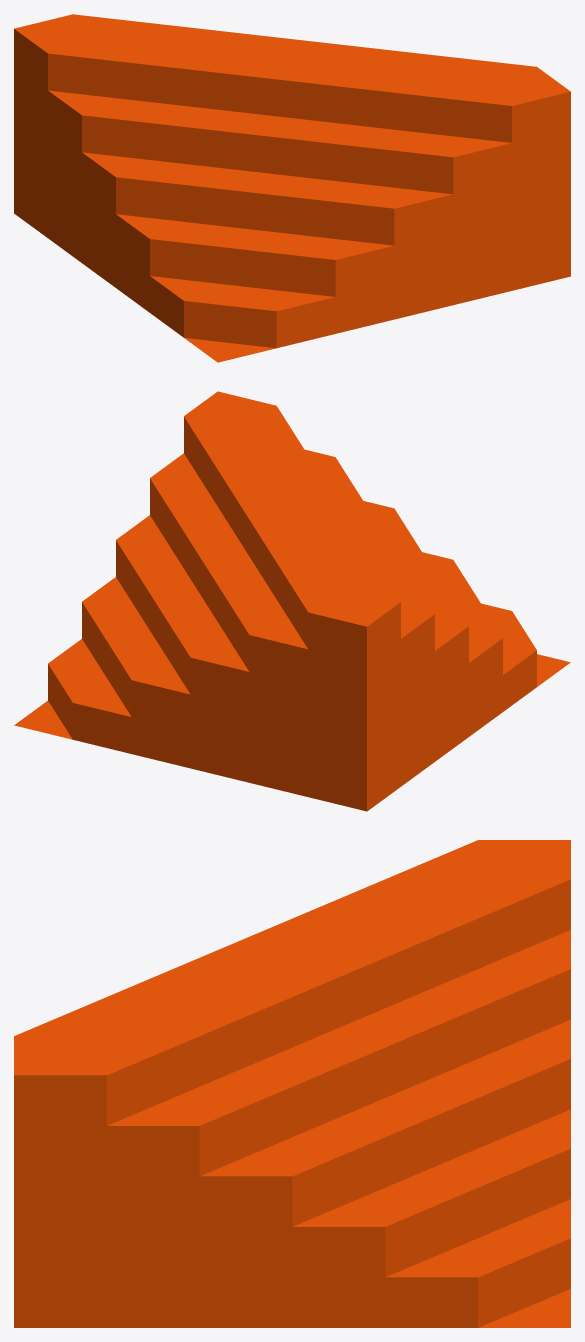
3 views of the same model, one above another, from view 1: azimuth 30°, elevation 25°; view 2: azimuth 150°, elevation 25°; view 3: azimuth 270°, elevation 25° (orthographic). The views are drawn at different scales.
Parts seen in each view (by area): view 1: T_a_f_0; view 2: T_a_f_0; view 3: T_a_f_0.
Boxes of the visible parts, x1,y1,x2,y2 form: T_a_f_0: (14,14,570,362); T_a_f_0: (14,391,570,811); T_a_f_0: (14,840,570,1327).
Bounding box in the file's own units: 99.81 × 49.91 × 99.79.
